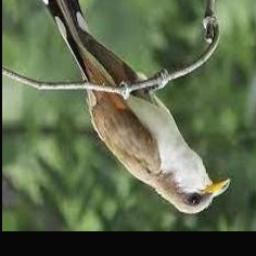Cuckoo: (29, 0, 229, 213)
